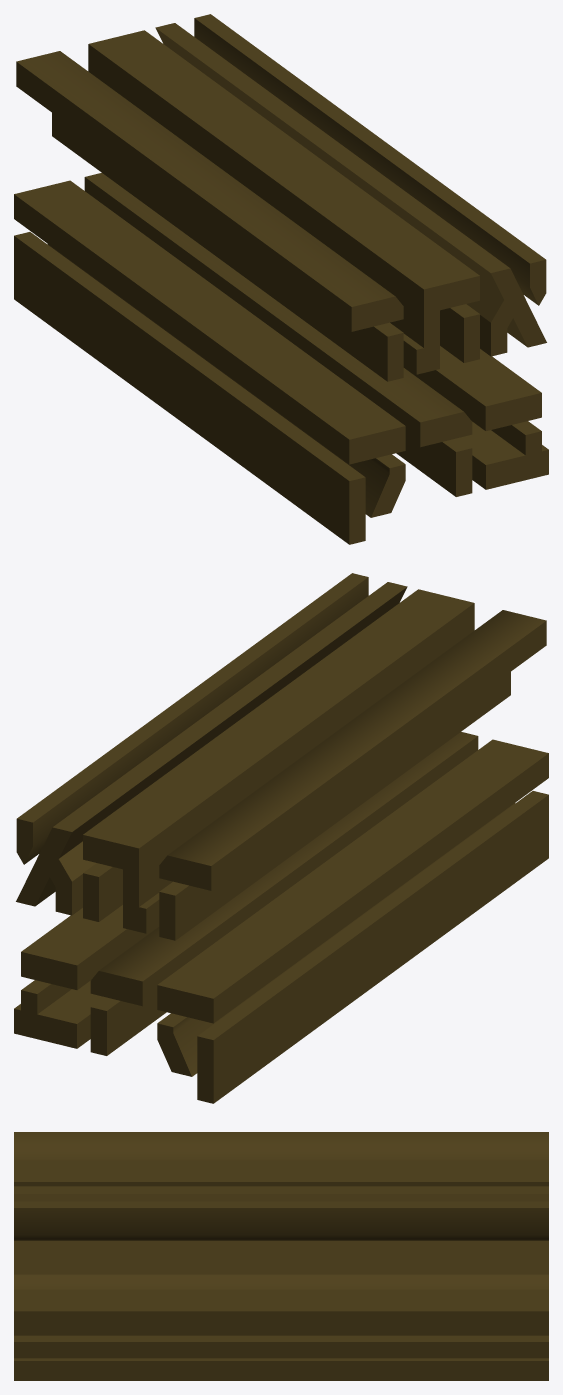
Rendered from Atar_Barak_text_.FBX.
3 renders of one model, top to bottom at view 1: azimuth 30°, elevation 25°; view 2: azimuth 150°, elevation 25°; view 3: azimuth 270°, elevation 25°, orthographic. The views are drawn at different scales.
Parts seen in each view (by area): view 1: Text004; view 2: Text004; view 3: Text004.
Boxes of the visible parts, x1,y1,x2,y2 form: Text004: (14,14,548,544); Text004: (14,573,548,1103); Text004: (14,1132,548,1380).
Bounding box in the file's own units: 4.56 × 13.28 × 5.18.
